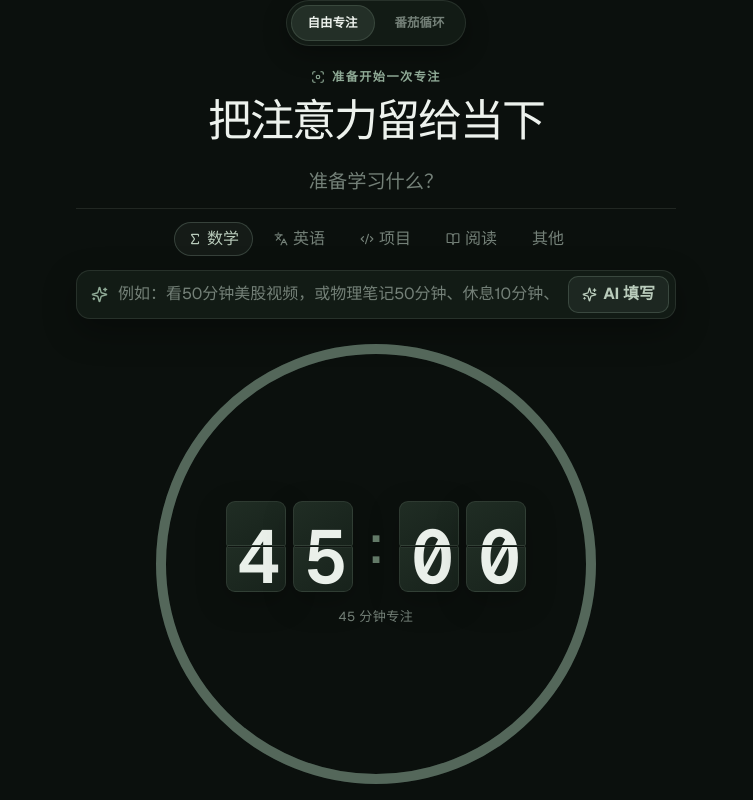
Test: FocusTimer unified AI input › synchronizes a 37-minute free result to the custom duration UI
Type "写代码37分钟" into the field named "用自然语言设置计时器" at {"x": 338, "y": 294}, box [118,282,558,306]
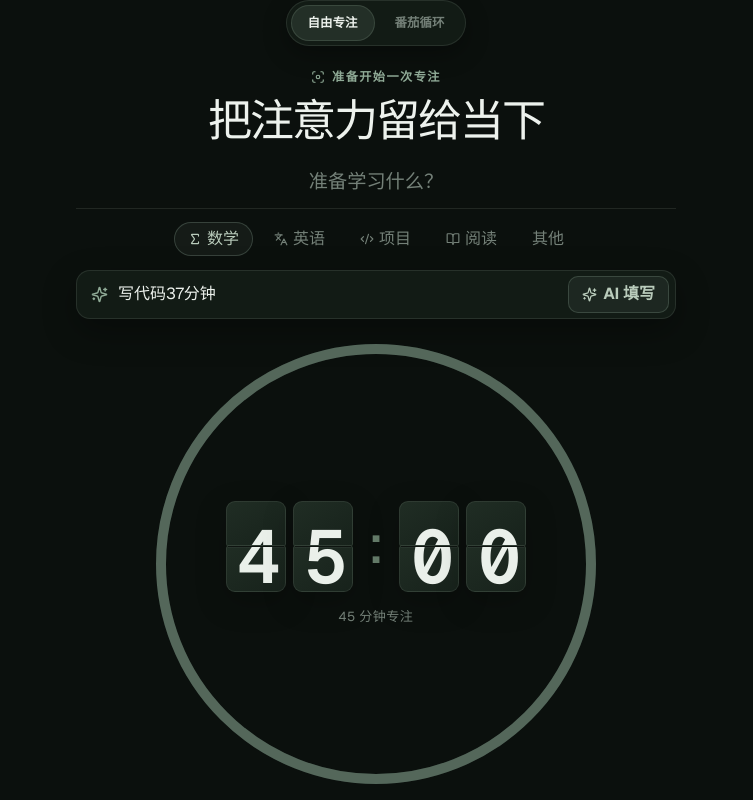
Click the button "AI 填写" at {"x": 619, "y": 294}, box [568,276,669,313]
(page scrolled)
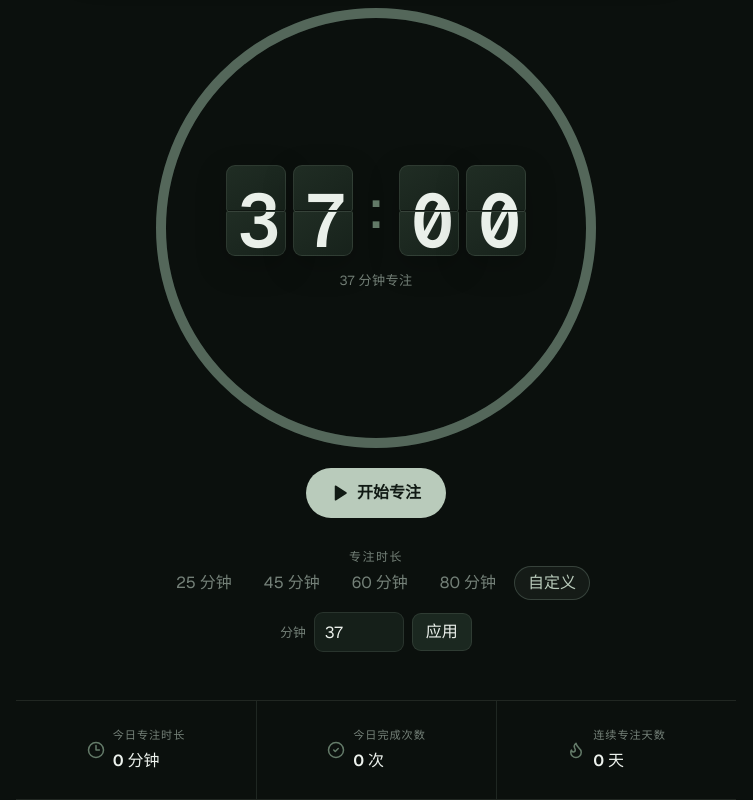
Expected: the element named "剩余时间 37:00" is shown, [226,165,526,256]
Expected: the number field labelled "分钟" holds "37", [314,612,404,652]
